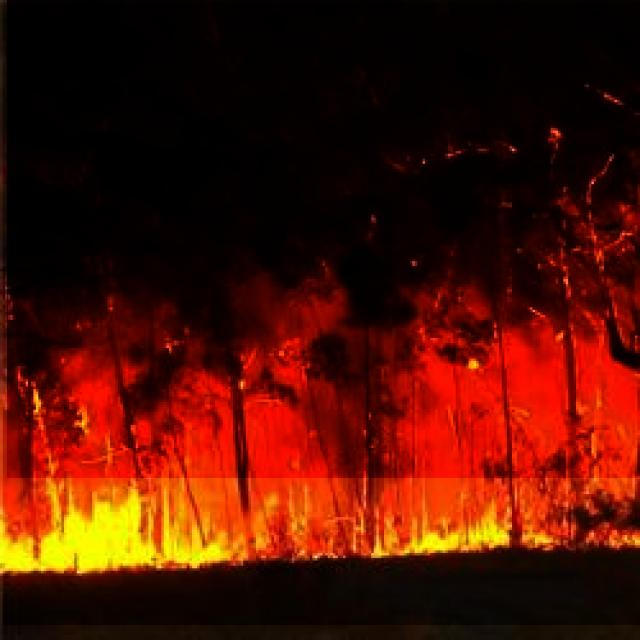Fire: (3, 410, 640, 625)
Smoke: (7, 0, 640, 478)
